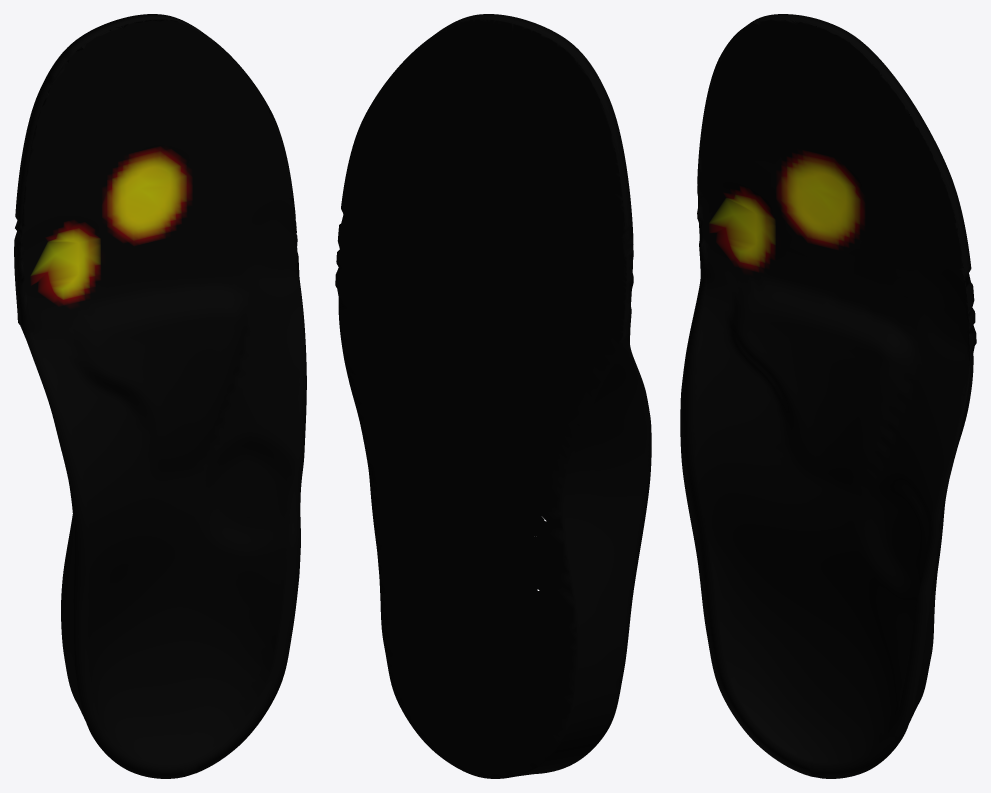
Rendered from OFFLOAD-MET-HEAD_RIGHT.glb.
3 views of the same model, side by side, from view 1: azimuth 30°, elevation 25°; view 2: azimuth 150°, elevation 25°; view 3: azimuth 330°, elevation 25° (orthographic). The views are drawn at different scales.
Visible parts, largest first — view 1: geometry_0; view 2: geometry_0; view 3: geometry_0.
Part boxes in pixels (<box>): geometry_0: <box>14,14,306,778</box>; geometry_0: <box>335,14,651,778</box>; geometry_0: <box>680,14,976,778</box>.
Bounding box in the file's own units: 110 × 279 × 28.27.
